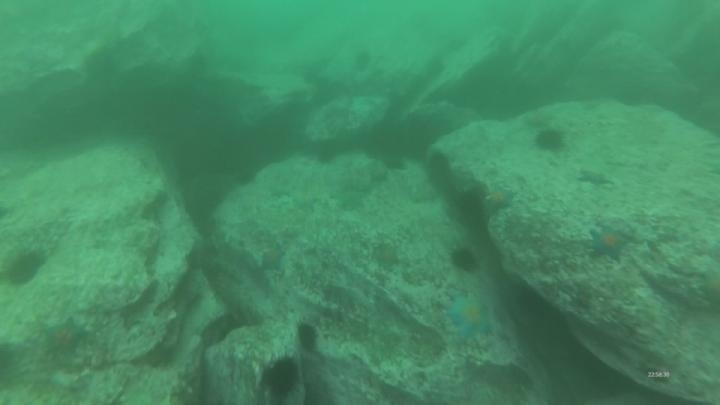echinus: (259, 354, 302, 400), (3, 246, 47, 289), (197, 312, 237, 351), (451, 186, 487, 226), (82, 49, 120, 86), (423, 150, 455, 191), (532, 125, 568, 155), (448, 244, 481, 274), (293, 320, 321, 354), (350, 48, 374, 74)
starfish: (443, 291, 497, 341), (40, 315, 90, 360), (587, 224, 632, 262), (481, 183, 517, 214), (370, 239, 403, 270), (257, 242, 288, 273), (332, 188, 368, 213), (575, 166, 615, 188), (287, 188, 321, 213)
